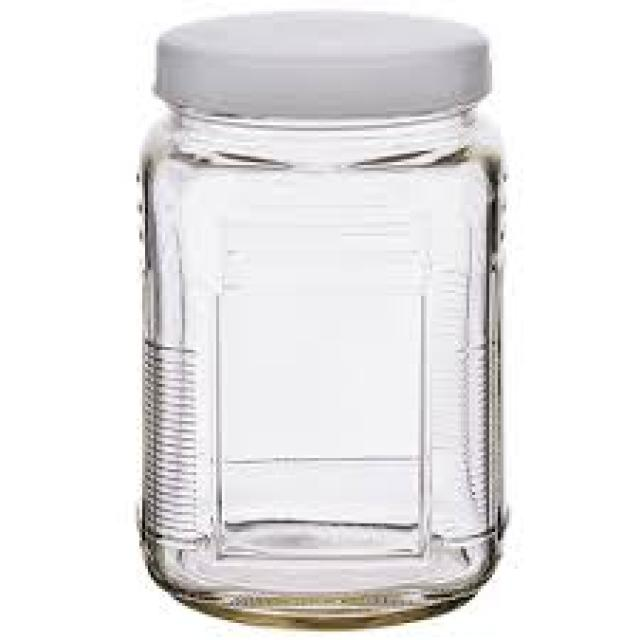glass: (137, 103, 504, 632)
metal: (154, 9, 487, 114)
